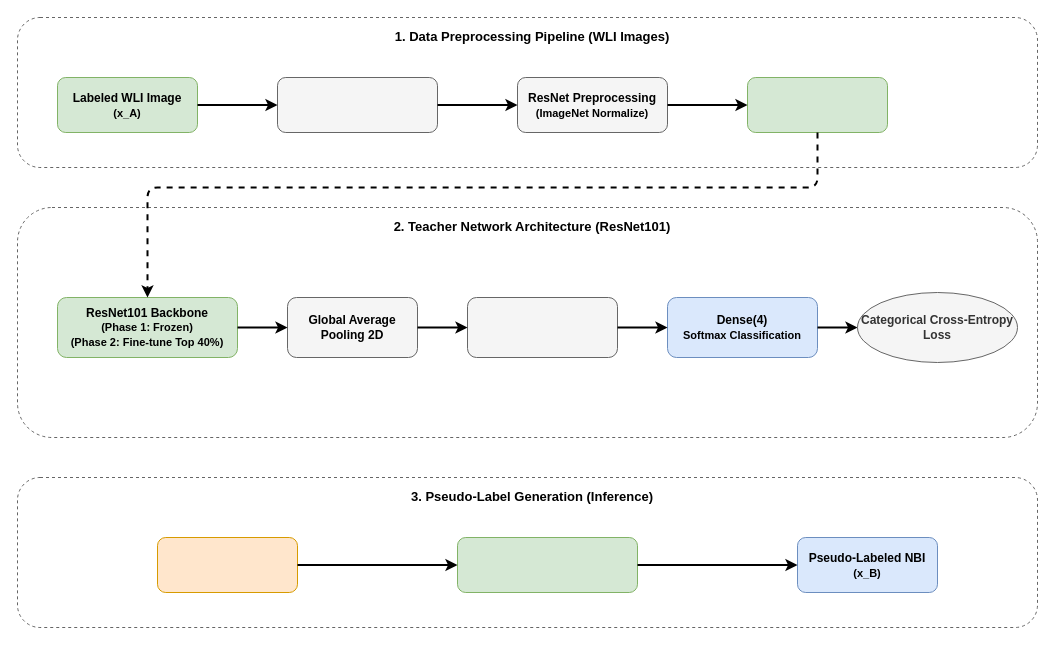
Image size: 1055x645. Some labels were removed from this diagram. Here are the shapes that lost their labels. From the top down, the centre of each, then its label:
At [357,104]: "Data Augmentation (Crop, Flip, Rotate, Jitter)".
At [817,104]: "Model Input Tensor (224x224x3)".
At [542,327]: "Dense(512) + ReLU + Dropout(0.5, 0.3)".
At [227,564]: "Unlabeled NBI Image".
At [547,564]: "Trained Teacher Network (Frozen Inference)".
